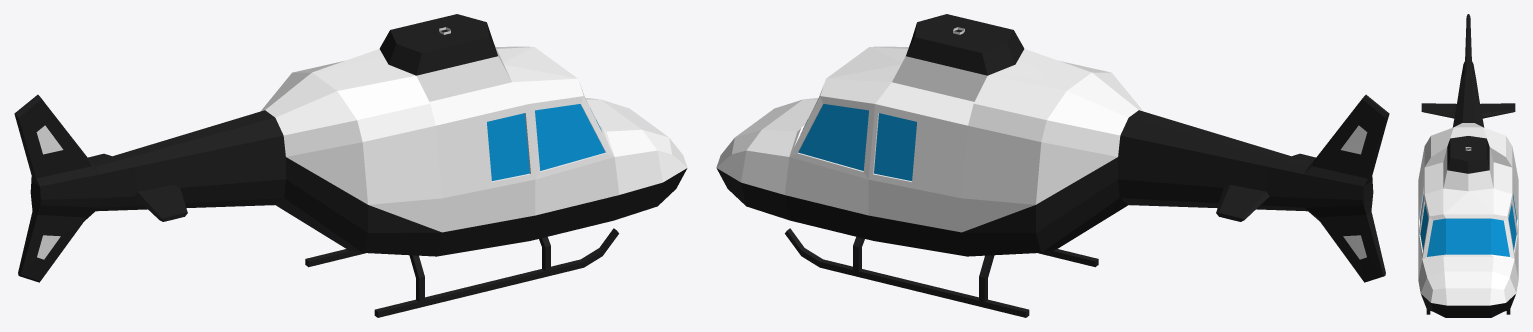
File: final_heli.obj
The picture shows the model from 3 angles, left to right: view 1: azimuth 30°, elevation 25°; view 2: azimuth 150°, elevation 25°; view 3: azimuth 270°, elevation 25°; orthographic projection. The views are drawn at different scales.
Visible parts, largest first — view 1: Cube.000_Cube.002; view 2: Cube.000_Cube.002; view 3: Cube.000_Cube.002.
Boxes of the visible parts, bbox=[...] form: Cube.000_Cube.002: bbox=[14, 14, 687, 317]; Cube.000_Cube.002: bbox=[716, 14, 1389, 317]; Cube.000_Cube.002: bbox=[1418, 14, 1518, 317].
Size of the model in its own units: 25.15 by 10 by 5.82.
